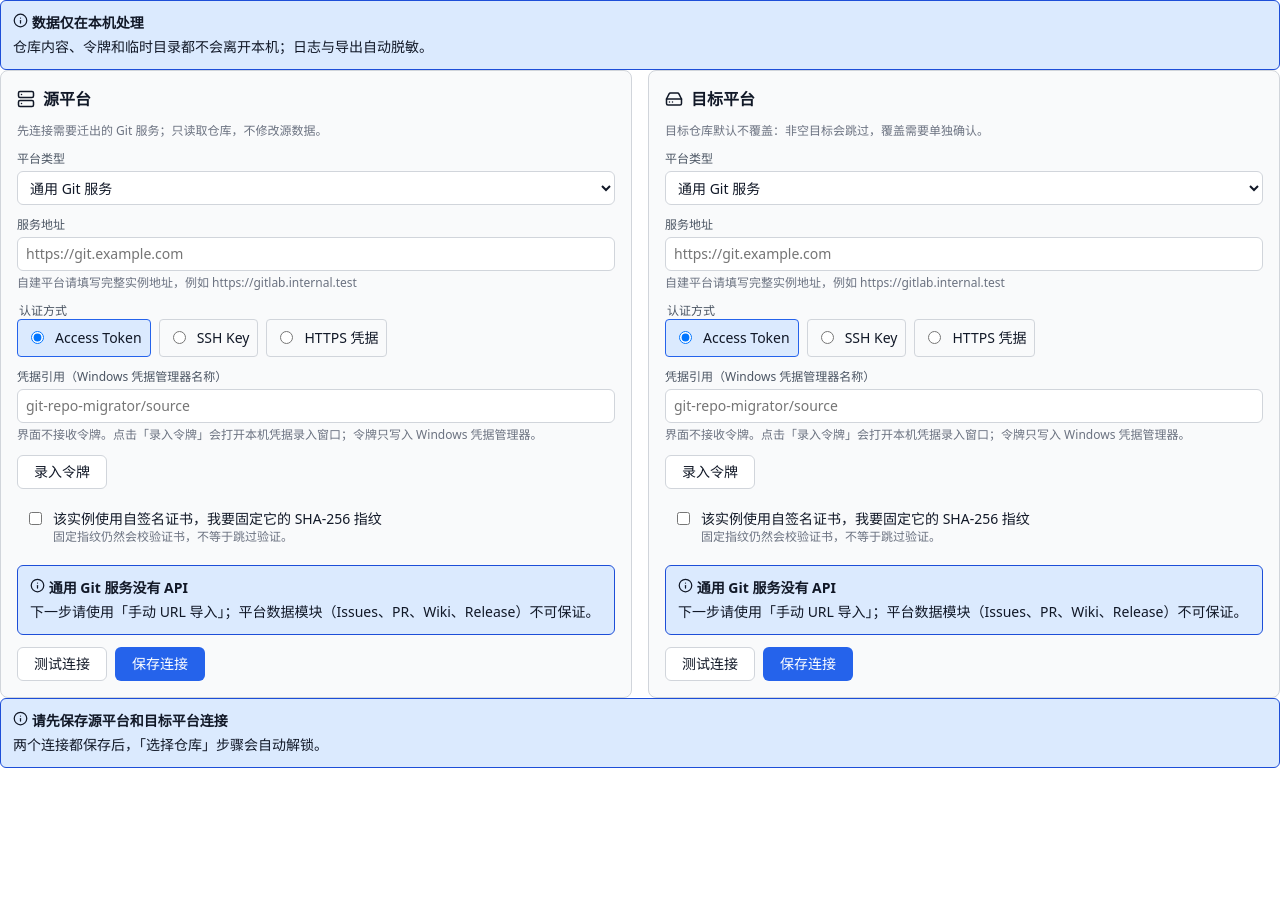
Test: 本机凭据录入 › 录入窗口无法打开时给出可执行的下一步
Click the button "录入令牌" below "先连接需要迁出的 Git 服务；只读取仓库，不修改源数据。". click: (62, 472)
box: left=17, top=455, right=107, bottom=489
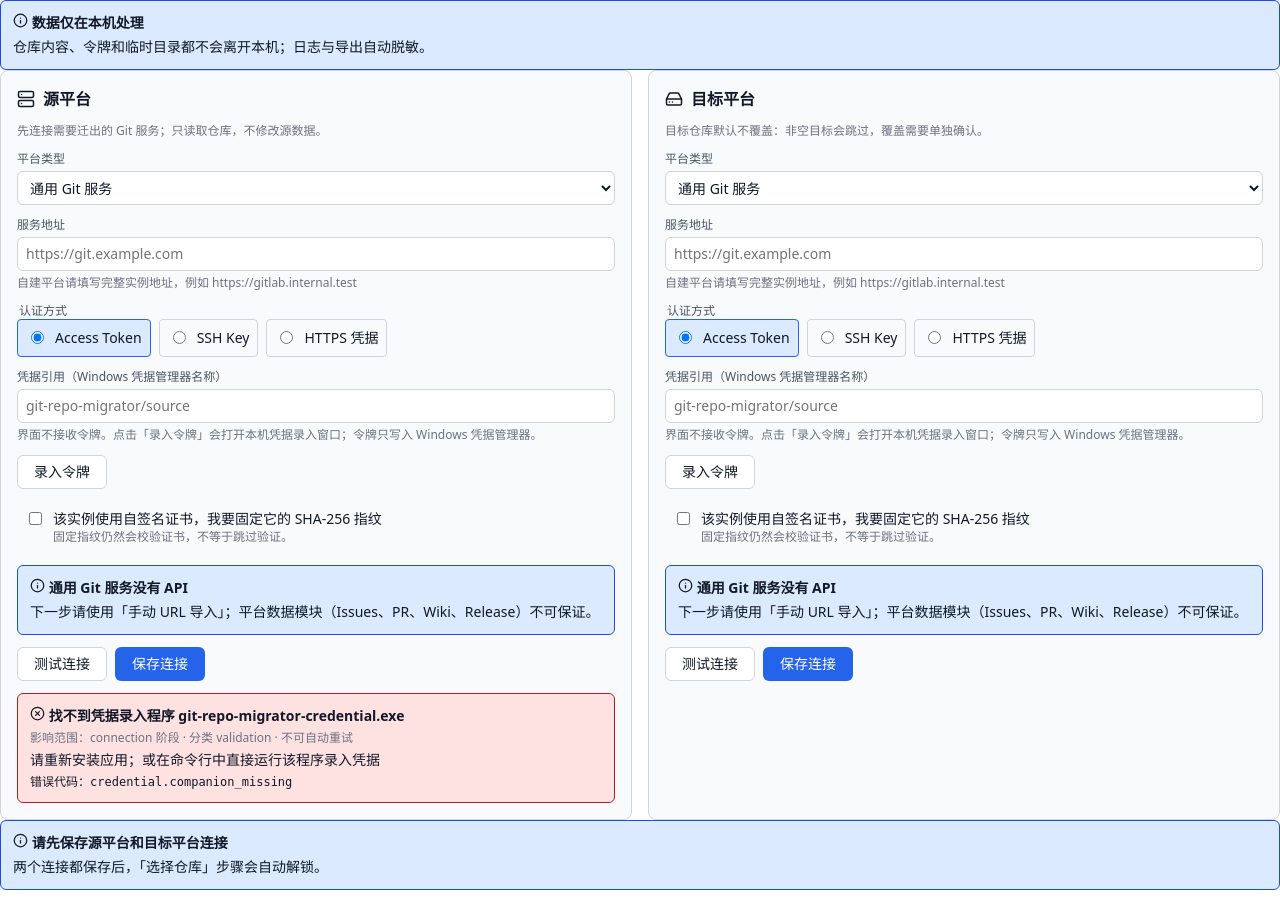
expect the field labelled "凭据引用（Windows 凭据管理器名称）" below "先连接需要迁出的 Git 服务；只读取仓库，不修改源数据。" is empty: met, box left=17, top=389, right=615, bottom=423
expect the text "找不到凭据录入程序 git-repo-migrator-credential.exe" is shown: met, box left=30, top=706, right=404, bottom=725
expect the text "请重新安装应用；或在命令行中直接运行该程序录入凭据" is shown: met, box left=30, top=750, right=380, bottom=769
